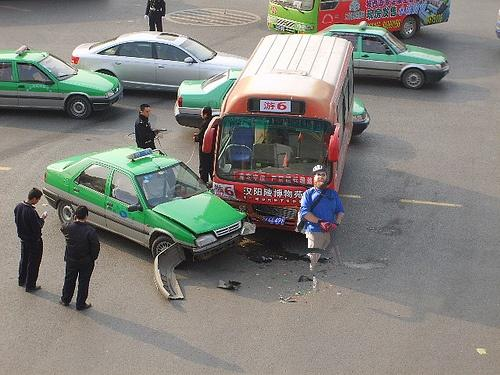tampered: (295, 166, 349, 296)
